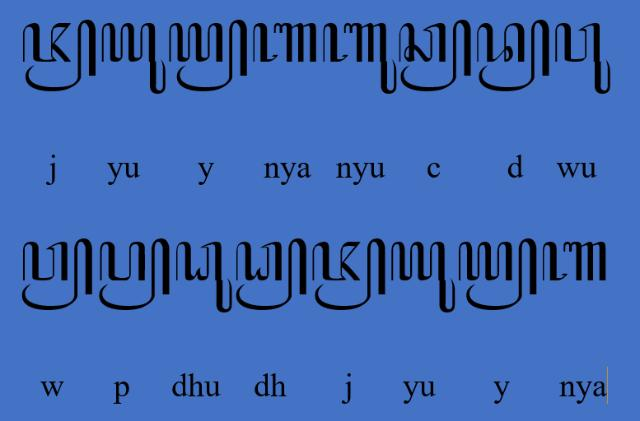-c: (398, 20, 472, 92)
-d: (475, 20, 551, 92)
-dh: (235, 238, 308, 310)
-j: (19, 18, 97, 94), (311, 238, 387, 312)
-p: (97, 238, 171, 312)
-w: (22, 238, 94, 312)
-y: (168, 18, 248, 94), (457, 238, 539, 312)
dhu: (174, 240, 233, 314)
ny1: (541, 240, 609, 284), (252, 22, 318, 64)
nyu1: (322, 21, 398, 94)
wu: (554, 22, 612, 96)
yu: (100, 21, 168, 94), (391, 240, 457, 314)
